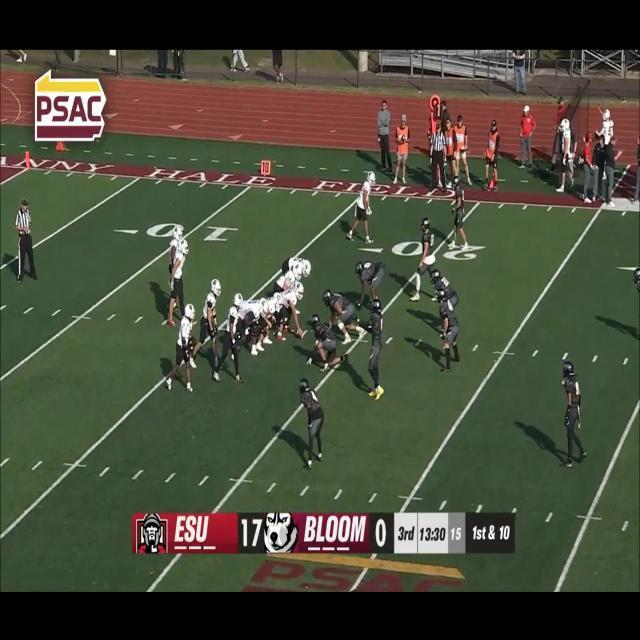football: (292, 326, 306, 343)
